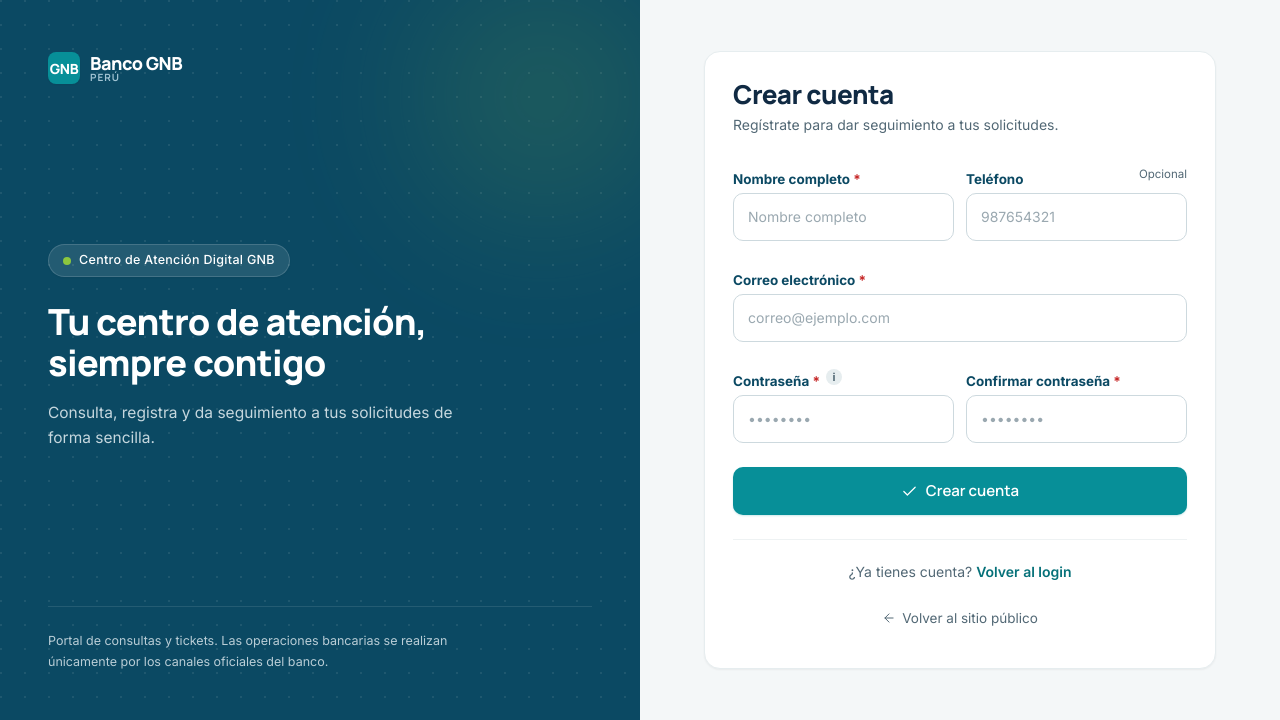
Test: formularios de autenticación › limpia contraseña inválida y muestra reglas
In the password field labelled "Contraseña *": (844, 419) [733, 395, 954, 443], type "short"
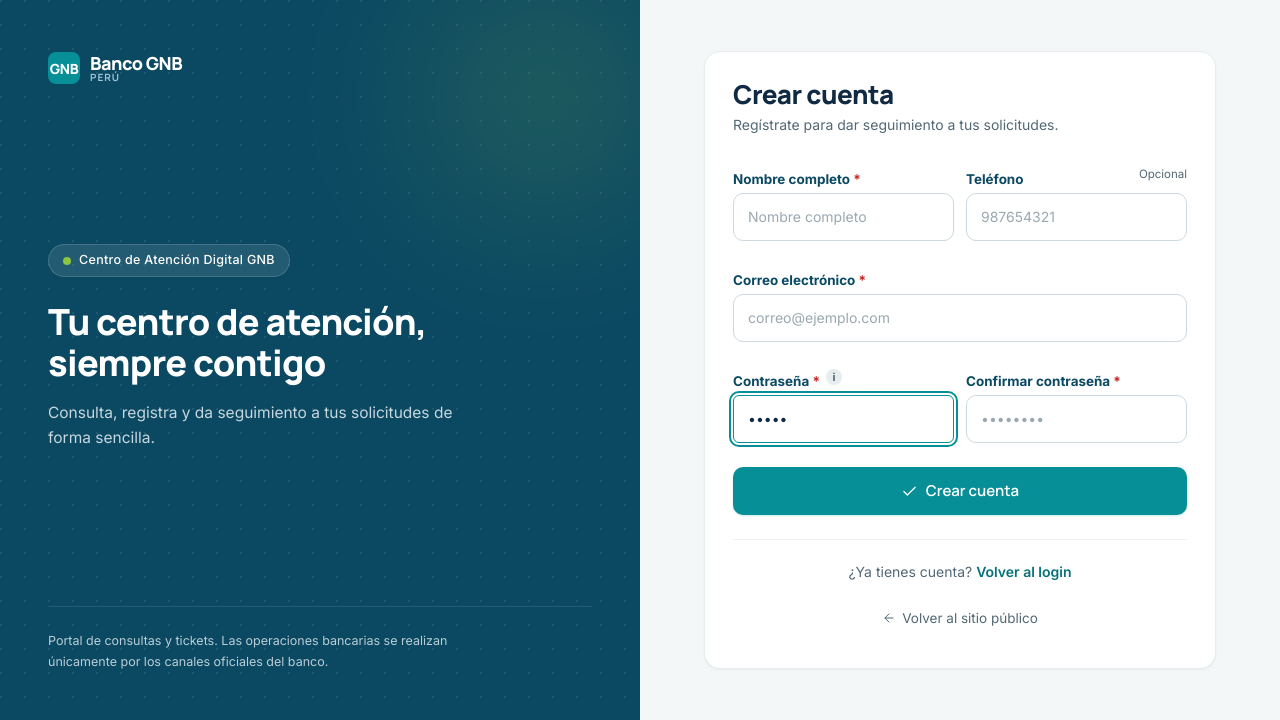
Click the button "Crear cuenta": (960, 492) [733, 468, 1187, 516]
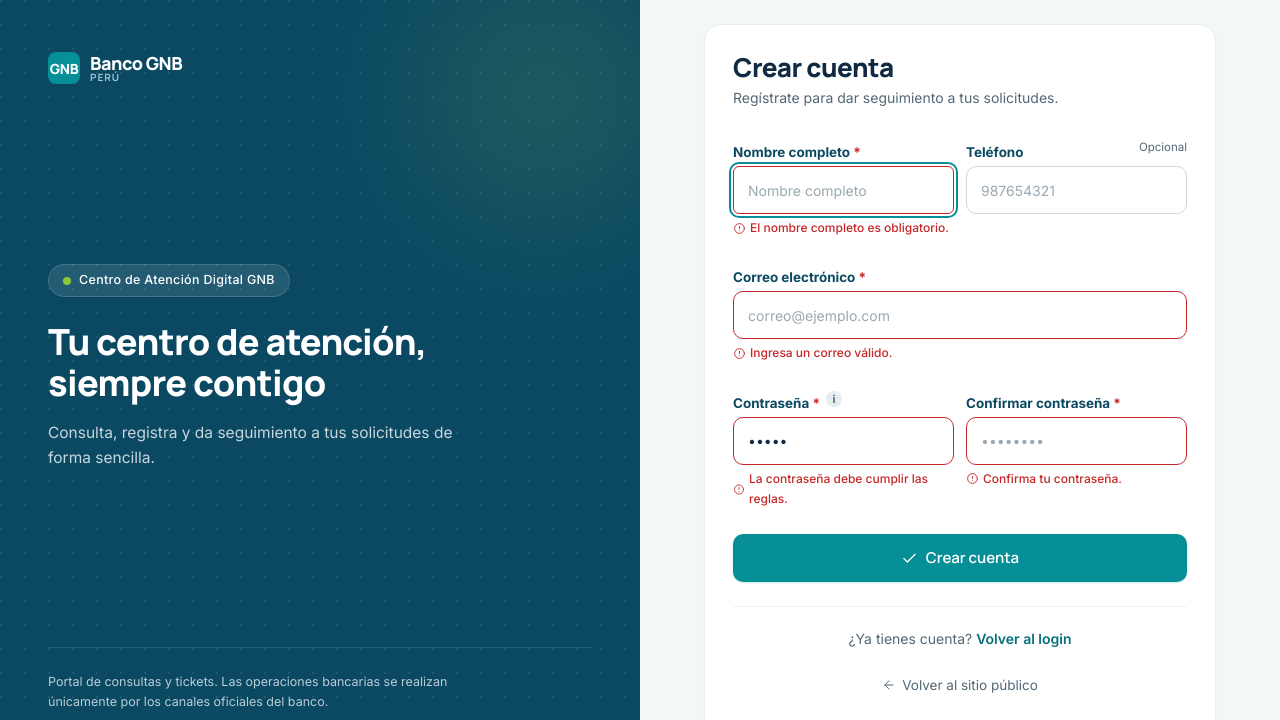
Expected: the text "La contraseña debe cumplir las reglas." is shown, [733, 469, 954, 510]
